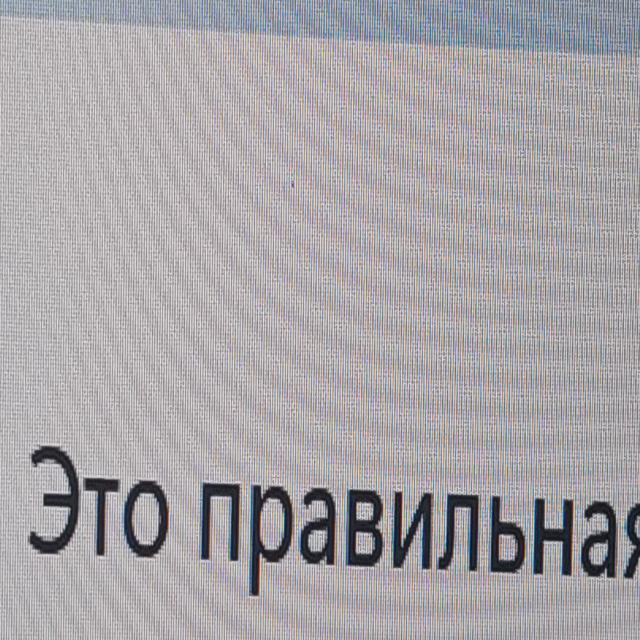Dead pixel: (292, 181, 294, 188)
